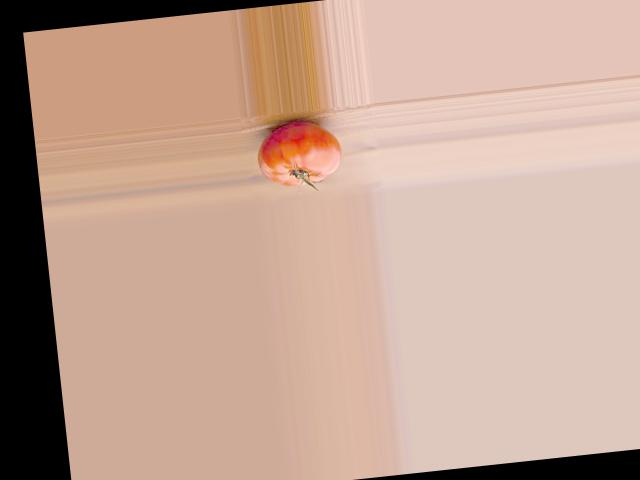tomato: (255, 117, 345, 189)
